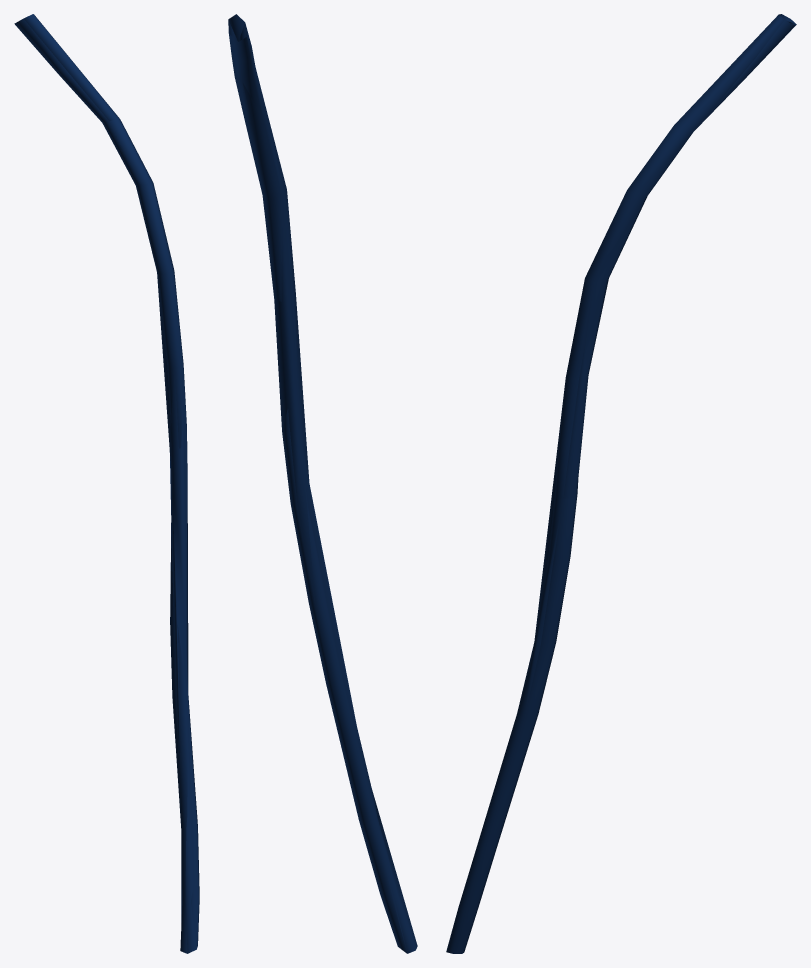
The model's file is L vena metatarseae plantares III.fbx.
The picture shows the model from 3 angles, left to right: view 1: azimuth 30°, elevation 25°; view 2: azimuth 150°, elevation 25°; view 3: azimuth 270°, elevation 25°; orthographic projection. The views are drawn at different scales.
Visible parts, largest first — view 1: L vena metatarseae plantares III, L vena metatarseae plantares III low; view 2: L vena metatarseae plantares III, L vena metatarseae plantares III low; view 3: L vena metatarseae plantares III, L vena metatarseae plantares III low.
Part boxes in pixels (x1=…): L vena metatarseae plantares III: x1=14, y1=18, x2=199, y2=953; L vena metatarseae plantares III low: x1=23, y1=14, x2=196, y2=953; L vena metatarseae plantares III: x1=228, y1=14, x2=417, y2=953; L vena metatarseae plantares III low: x1=228, y1=20, x2=416, y2=950; L vena metatarseae plantares III: x1=446, y1=14, x2=796, y2=953; L vena metatarseae plantares III low: x1=517, y1=14, x2=796, y2=716.
Size of the model in its own units: 1 by 11.02 by 3.75.
